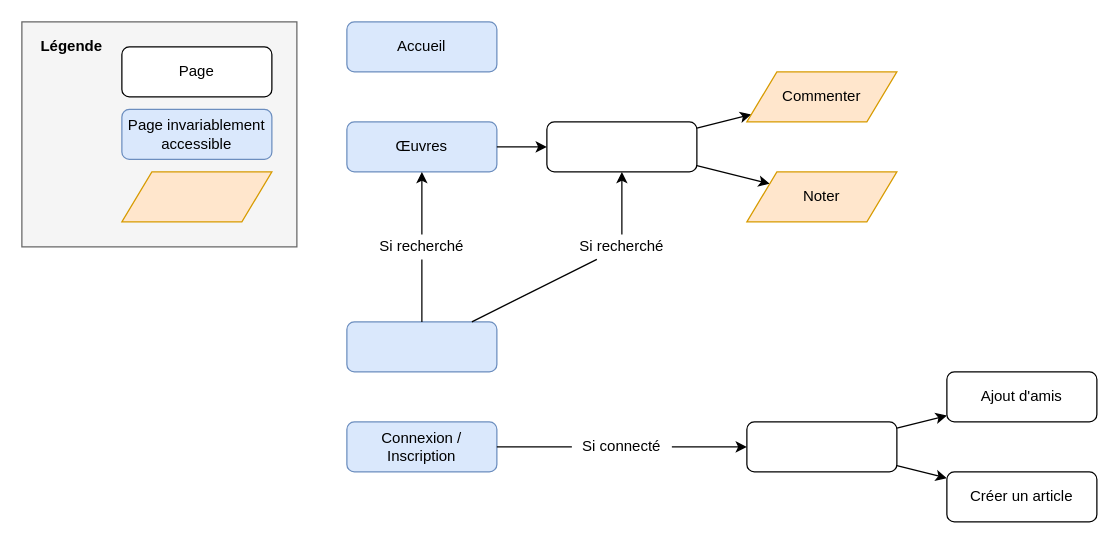
The diagram is 1119 pixels wide and 544 high, and some of its shapes have lost their labels. The shapes that lost their labels are listed below. From the top down, each one's centre as x and y in pixels, then its label:
point (621, 146): Article "N"
point (196, 196): Fonctionnalité
point (421, 346): Rechercher
point (821, 446): Modifier le profil
